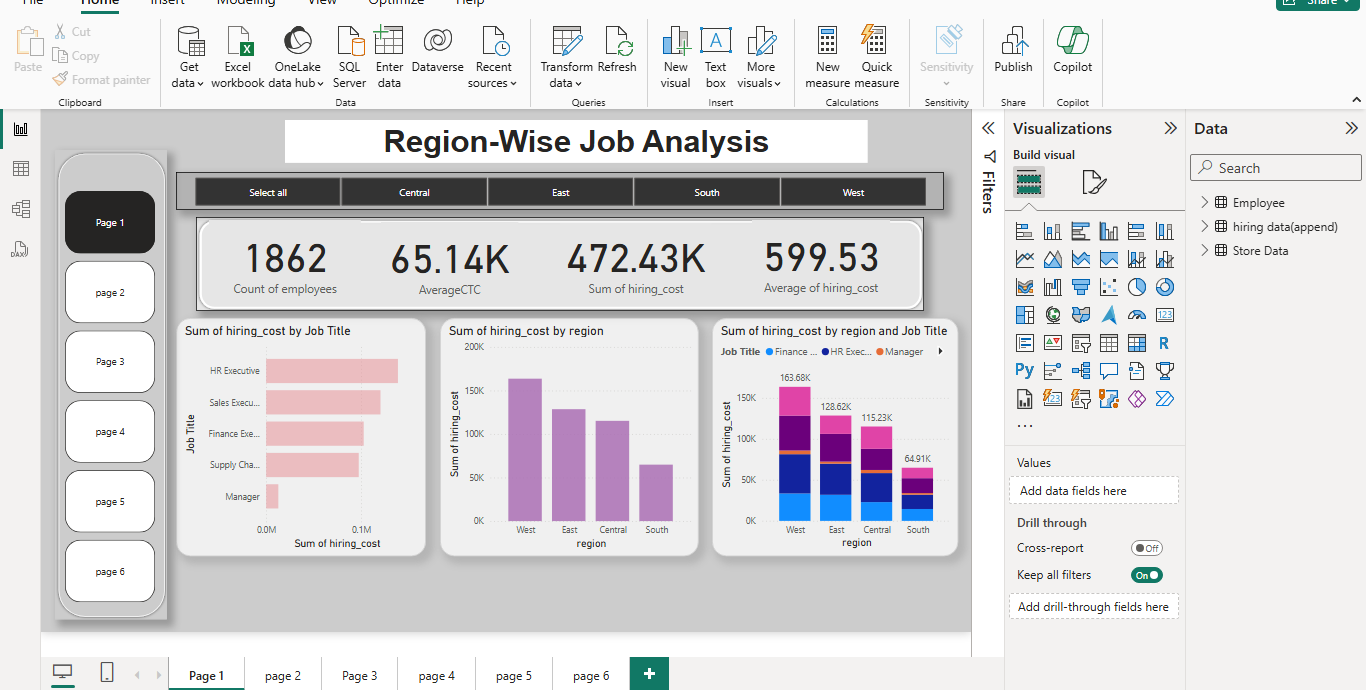

The page's visual inventory and layout, read from the dashboard file:
{"tool":"powerbi","page":{"name":"Page 1","canvas":[1280,720],"ordinal":0},"visuals":[{"type":"textbox","box":[335.8,15.1,802.4,59.2],"z":0},{"type":"shape","box":[213.3,148.6,1002,129.4],"z":1000},{"type":"clusteredBarChart","fields":{"Category":["Employee.Job Title"],"Y":["Sum(hiring data(append).hiring_cost)"]},"box":[185.8,287.7,344.1,327.6],"z":2000},{"type":"slicer","fields":{"Values":["Store Data.region"]},"box":[185.8,86.7,1057,52.3],"z":3000},{"type":"shape","box":[19.3,56.4,154.2,645.5],"z":4000},{"type":"pageNavigator","box":[33.2,112.3,125,568],"z":5000},{"type":"card","fields":{"Values":["Avg(hiring data(append).hiring_cost)"]},"box":[978.6,152.8,189.9,108.7],"z":6000},{"type":"card","fields":{"Values":["hiring data(append).AverageCTC"]},"box":[468,155.5,188.6,108.7],"z":7000},{"type":"card","fields":{"Values":["CountNonNull(Store Data.employees)"]},"box":[231.2,152.8,209.2,112.9],"z":8000},{"type":"columnChart","fields":{"Category":["Store Data.region"],"Y":["Sum(hiring data(append).hiring_cost)"]},"box":[549.2,287.7,356.5,327.6],"z":9000},{"type":"columnChart","fields":{"Category":["Store Data.region"],"Series":["Employee.Job Title"],"Y":["Sum(hiring data(append).hiring_cost)"]},"box":[923.5,287.7,338.6,327.6],"z":10000},{"type":"card","fields":{"Values":["Sum(hiring data(append).hiring_cost)"]},"box":[714.3,156.9,209.2,104.6],"z":11000}]}

Visuals, with their boxes on the page's 1280x720 design canvas (x1, y1, x2, y2). These are canvas units, not pixel positions in the 1366x690 screenshot, which may show the page scaled, cropped or inside an application window:
textbox: <bbox>336, 15, 1138, 74</bbox>
shape: <bbox>213, 149, 1215, 278</bbox>
clusteredBarChart - Employee.Job Title x Sum(hiring data(append).hiring_cost): <bbox>186, 288, 530, 615</bbox>
slicer - Store Data.region: <bbox>186, 87, 1243, 139</bbox>
shape: <bbox>19, 56, 174, 702</bbox>
pageNavigator: <bbox>33, 112, 158, 680</bbox>
card - Avg(hiring data(append).hiring_cost): <bbox>979, 153, 1168, 262</bbox>
card - hiring data(append).AverageCTC: <bbox>468, 156, 657, 264</bbox>
card - CountNonNull(Store Data.employees): <bbox>231, 153, 440, 266</bbox>
columnChart - Store Data.region x Sum(hiring data(append).hiring_cost): <bbox>549, 288, 906, 615</bbox>
columnChart - Store Data.region x Employee.Job Title: <bbox>924, 288, 1262, 615</bbox>
card - Sum(hiring data(append).hiring_cost): <bbox>714, 157, 924, 262</bbox>
